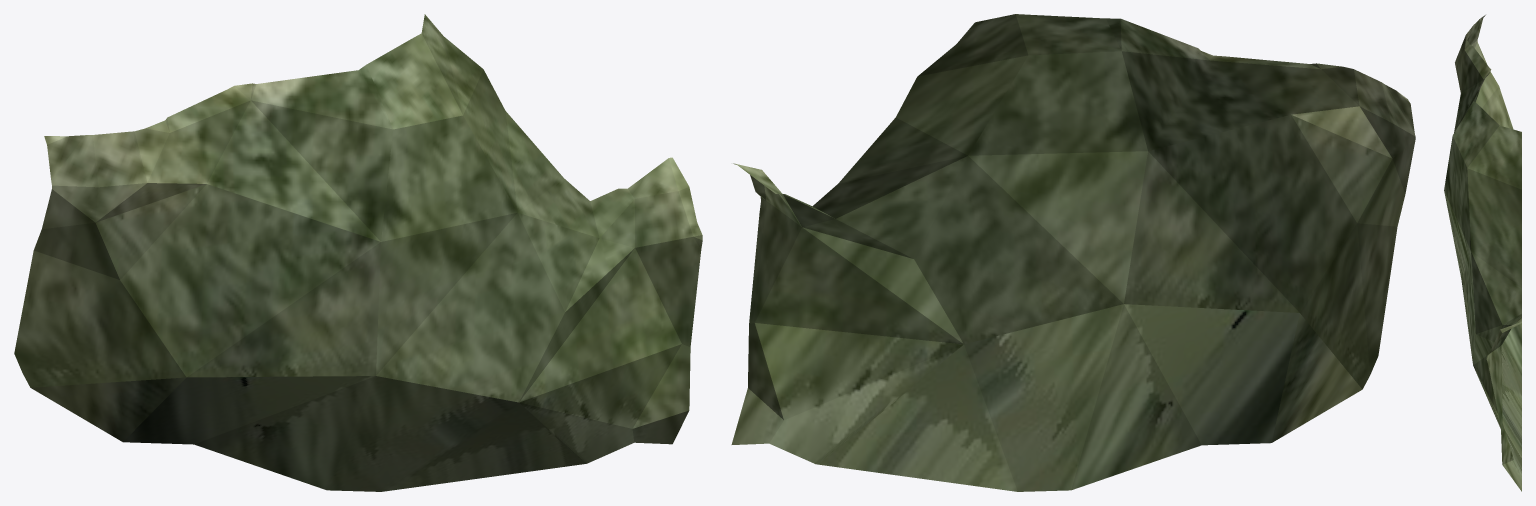
3 views of the same model, side by side, from view 1: azimuth 30°, elevation 25°; view 2: azimuth 150°, elevation 25°; view 3: azimuth 270°, elevation 25° (orthographic). The views are drawn at different scales.
Bounding box in the file's own units: 2.95 × 2.1 × 0.5134.
2 materials, 2 textured.
